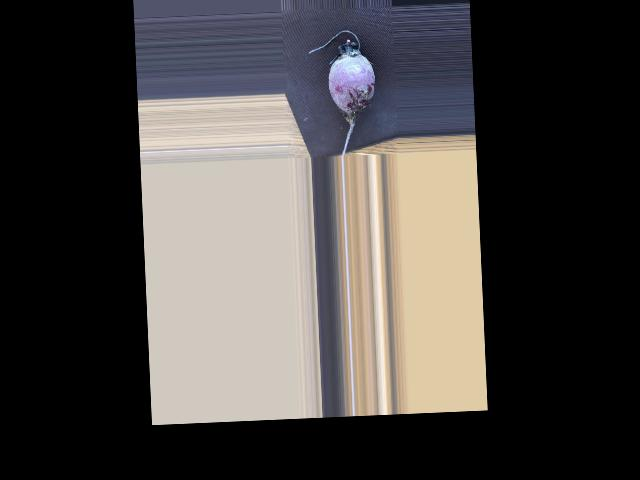beet: (307, 29, 379, 158)
